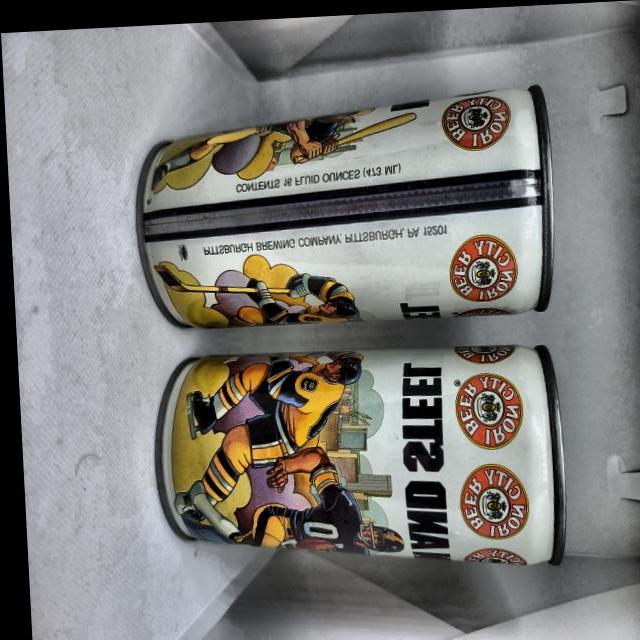litter: (141, 330, 564, 587), (126, 81, 556, 330)
